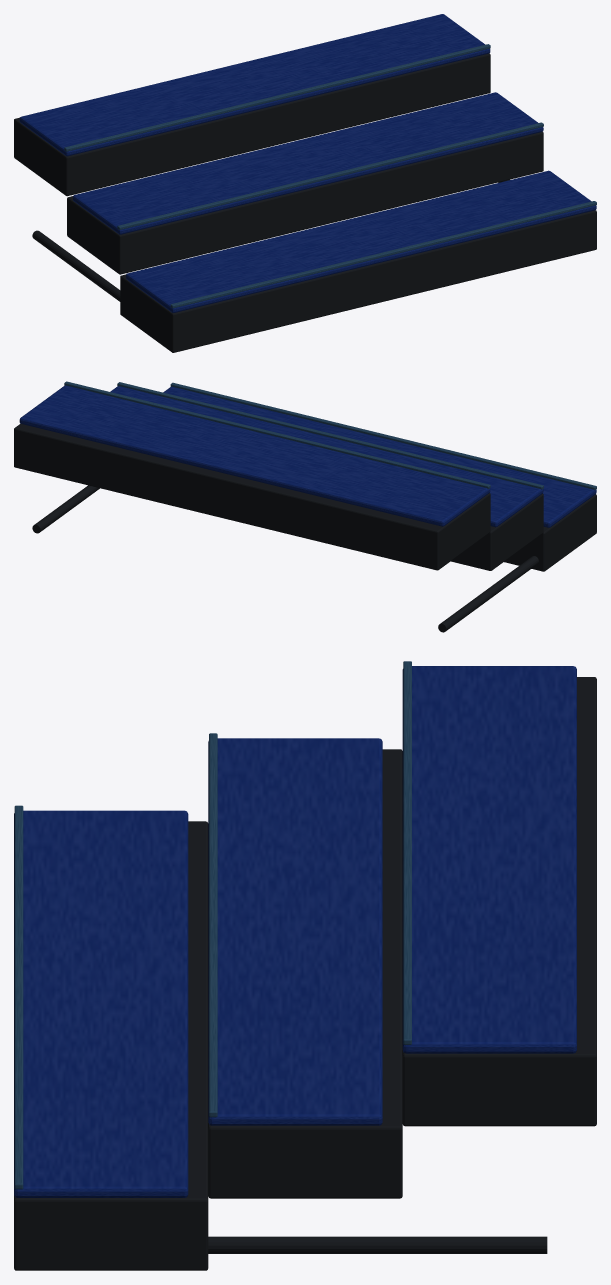
The model's file is gradas.obj.
The picture shows the model from 3 angles, top to bottom: view 1: azimuth 30°, elevation 25°; view 2: azimuth 150°, elevation 25°; view 3: azimuth 270°, elevation 25°; orthographic projection. The views are drawn at different scales.
Parts seen in each view (by area): view 1: Gradas_Asiento_Nivel_3, Gradas_Asiento_Nivel_2, Gradas_Asiento_Nivel_1, Gradas_Estructura_Nivel_1, Gradas_Estructura_Nivel_2, Gradas_Estructura_Nivel_3, Gradas_Borde_Nivel_3, Gradas_Borde_Nivel_1, Gradas_Borde_Nivel_2, Gradas_Soporte_Lateral; view 2: Gradas_Estructura_Nivel_3, Gradas_Asiento_Nivel_3, Gradas_Asiento_Nivel_1, Gradas_Asiento_Nivel_2, Gradas_Estructura_Nivel_2, Gradas_Estructura_Nivel_1, Gradas_Borde_Nivel_1, Gradas_Borde_Nivel_2, Gradas_Borde_Nivel_3, Gradas_Soporte_Lateral, Gradas_Soporte_Lateral.001; view 3: Gradas_Asiento_Nivel_2, Gradas_Asiento_Nivel_3, Gradas_Asiento_Nivel_1, Gradas_Estructura_Nivel_2, Gradas_Estructura_Nivel_1, Gradas_Estructura_Nivel_3, Gradas_Soporte_Lateral.001, Gradas_Borde_Nivel_1, Gradas_Borde_Nivel_2, Gradas_Borde_Nivel_3.
Part boxes in pixels (x1,y1,x2,y2): Gradas_Asiento_Nivel_3: (19,14,490,156); Gradas_Asiento_Nivel_2: (73,92,543,234); Gradas_Asiento_Nivel_1: (126,170,596,312); Gradas_Estructura_Nivel_1: (120,210,596,352); Gradas_Estructura_Nivel_2: (67,132,543,274); Gradas_Estructura_Nivel_3: (14,53,490,196); Gradas_Borde_Nivel_3: (64,44,490,151); Gradas_Borde_Nivel_1: (170,201,596,308); Gradas_Borde_Nivel_2: (117,122,543,229); Gradas_Soporte_Lateral: (32,230,120,301); Gradas_Estructura_Nivel_3: (14,423,490,570); Gradas_Asiento_Nivel_3: (19,385,490,526); Gradas_Asiento_Nivel_1: (163,386,596,527); Gradas_Asiento_Nivel_2: (110,386,543,527); Gradas_Estructura_Nivel_2: (451,493,543,570); Gradas_Estructura_Nivel_1: (504,494,596,571); Gradas_Borde_Nivel_1: (170,382,596,490); Gradas_Borde_Nivel_2: (117,382,543,489); Gradas_Borde_Nivel_3: (64,381,490,488); Gradas_Soporte_Lateral: (438,556,538,632); Gradas_Soporte_Lateral.001: (32,485,99,533); Gradas_Asiento_Nivel_2: (208,738,382,1125); Gradas_Asiento_Nivel_3: (402,666,576,1053); Gradas_Asiento_Nivel_1: (14,810,188,1197); Gradas_Estructura_Nivel_2: (208,749,402,1198); Gradas_Estructura_Nivel_1: (14,821,208,1270); Gradas_Estructura_Nivel_3: (402,677,596,1126); Gradas_Soporte_Lateral.001: (208,1236,547,1253); Gradas_Borde_Nivel_1: (14,805,23,1189); Gradas_Borde_Nivel_2: (209,733,217,1117); Gradas_Borde_Nivel_3: (403,661,411,1044).
Bounding box in the file's own units: 3.6 × 1.03 × 2.34.
Materials: 3 (2 with a texture image).
